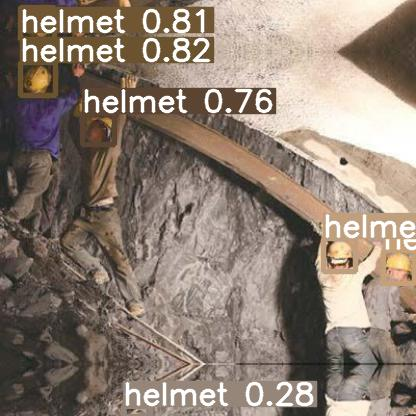helmet: (20, 62, 55, 95), (20, 7, 54, 39), (323, 238, 355, 271), (383, 250, 414, 283), (82, 113, 114, 144), (123, 406, 150, 416)
